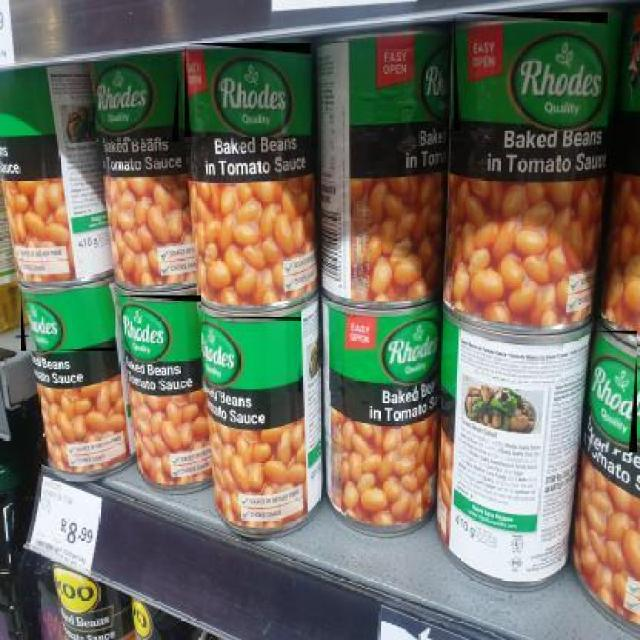Beans: (454, 12, 609, 132), (185, 43, 312, 139), (328, 312, 447, 392), (200, 317, 302, 394), (95, 54, 180, 143), (20, 288, 117, 352), (116, 296, 202, 367), (591, 331, 638, 454)
